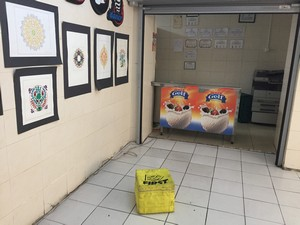cube: (134, 168, 175, 212)
